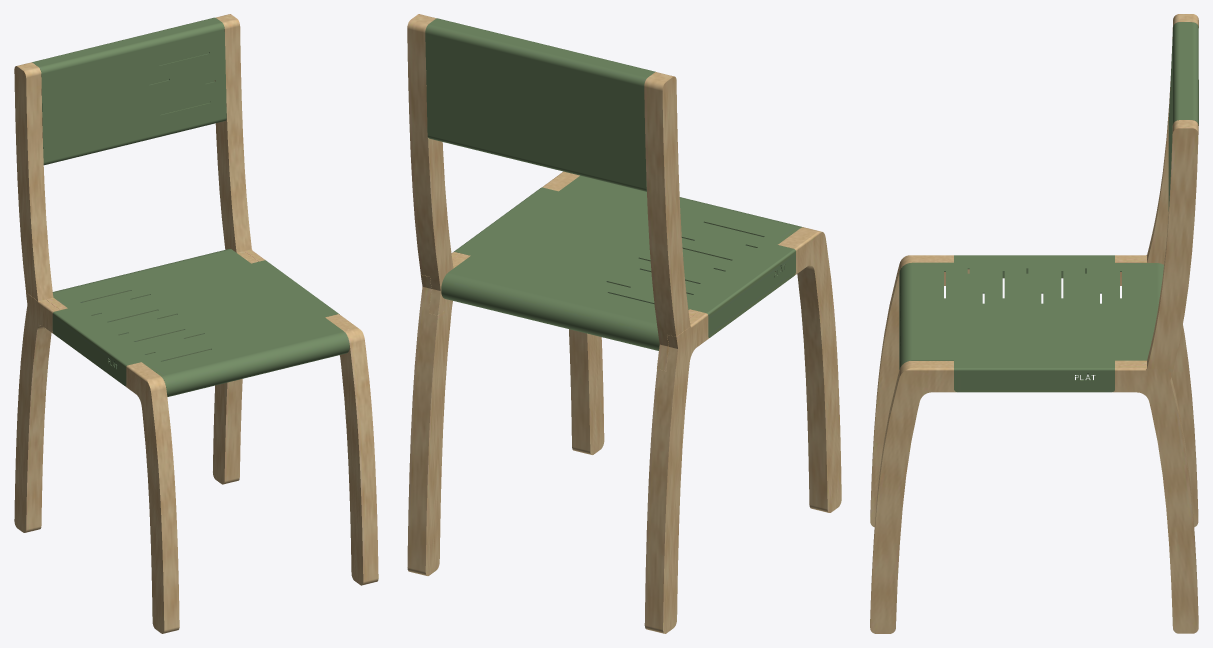
Rendered from plat.glb.
3 renders of one model, left to right at view 1: azimuth 30°, elevation 25°; view 2: azimuth 150°, elevation 25°; view 3: azimuth 270°, elevation 25°, orthographic. The views are drawn at different scales.
Visible parts, largest first — view 1: Asiento; view 2: Asiento; view 3: Asiento.
Part boxes in pixels (x1=…): Asiento: x1=14, y1=14, x2=378, y2=633; Asiento: x1=407, y1=14, x2=841, y2=633; Asiento: x1=870, y1=14, x2=1198, y2=633.
Size of the model in its own units: 0.4177 by 0.8604 by 0.5067.
1 material, 1 textured.
